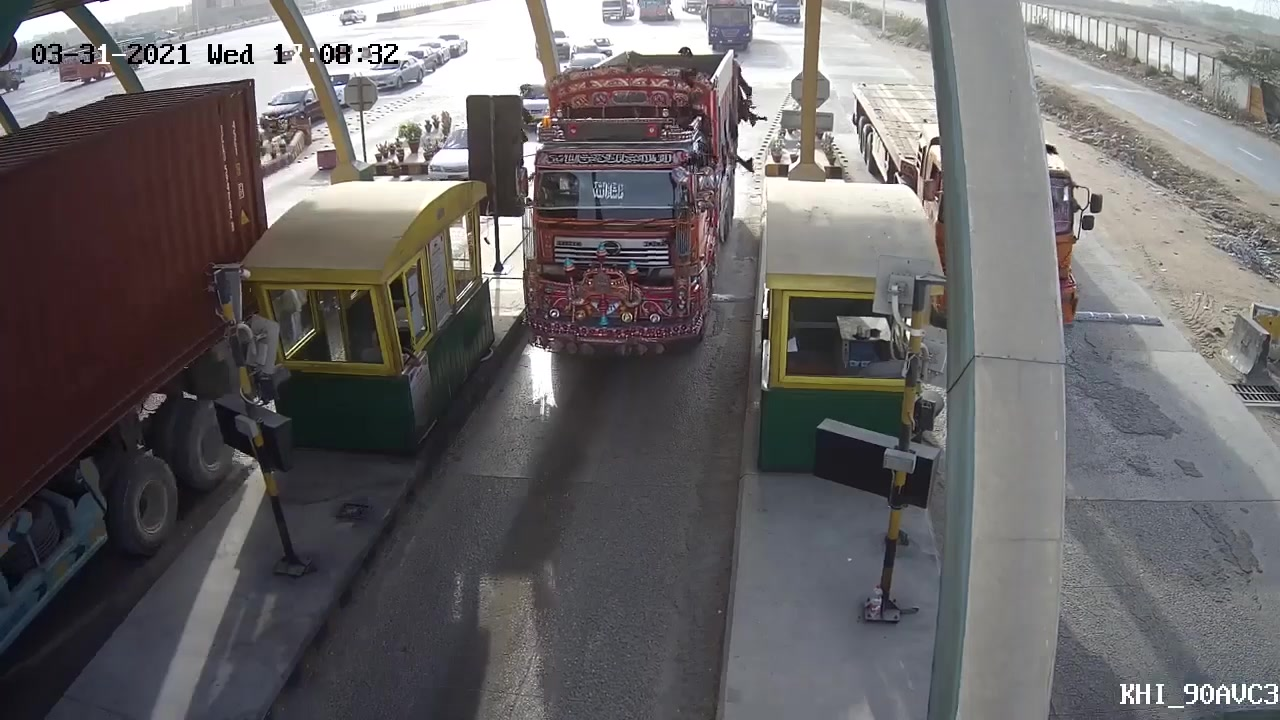F5: (507, 48, 740, 368)
